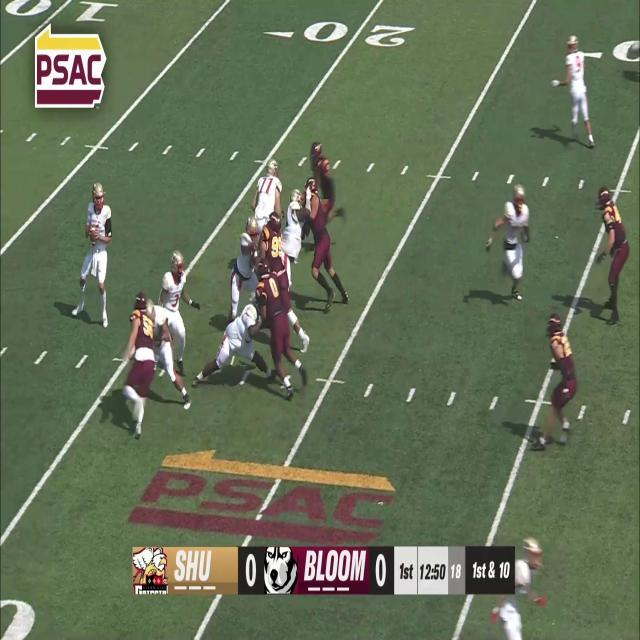football: (87, 226, 98, 246)
